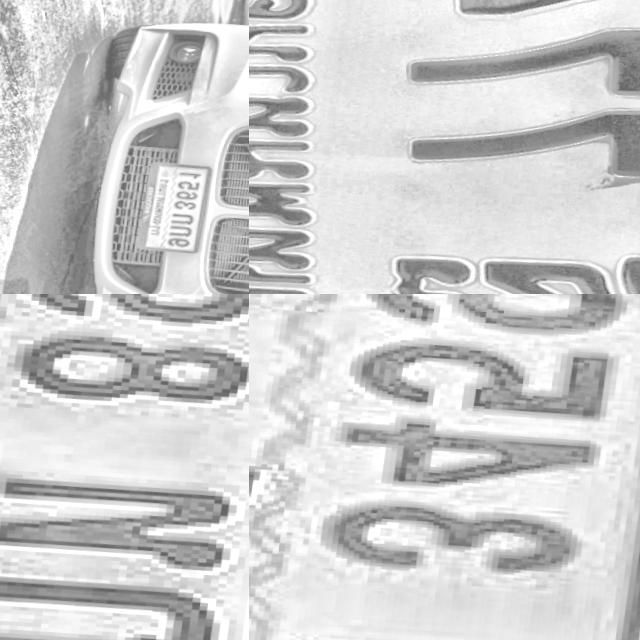license-plate: (249, 294, 640, 640), (249, 0, 640, 294), (0, 294, 249, 640), (135, 159, 217, 258)
